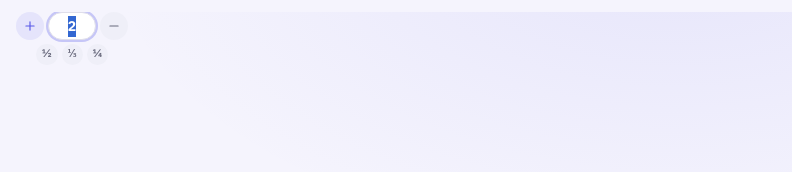
Scenario: scanning while the quantity field is focused › a half-typed decimal reverts instead of deleting the line
The width and height of the screenshot is (792, 172).
Replace the text in the field named "الكمية" with "." at [72, 26], box [48, 12, 96, 40]
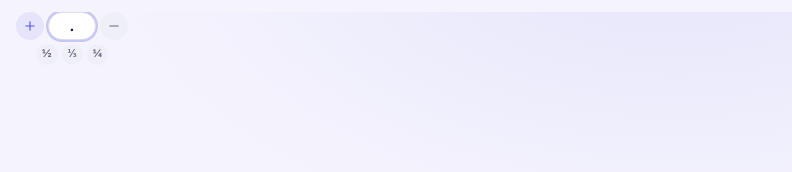
Leave the field named "الكمية", box [48, 12, 96, 40]
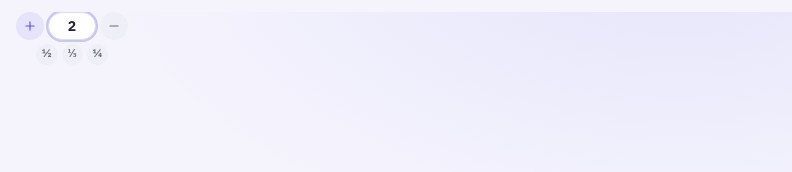
Check: the field named "الكمية" holds "2", box [48, 12, 96, 40]
